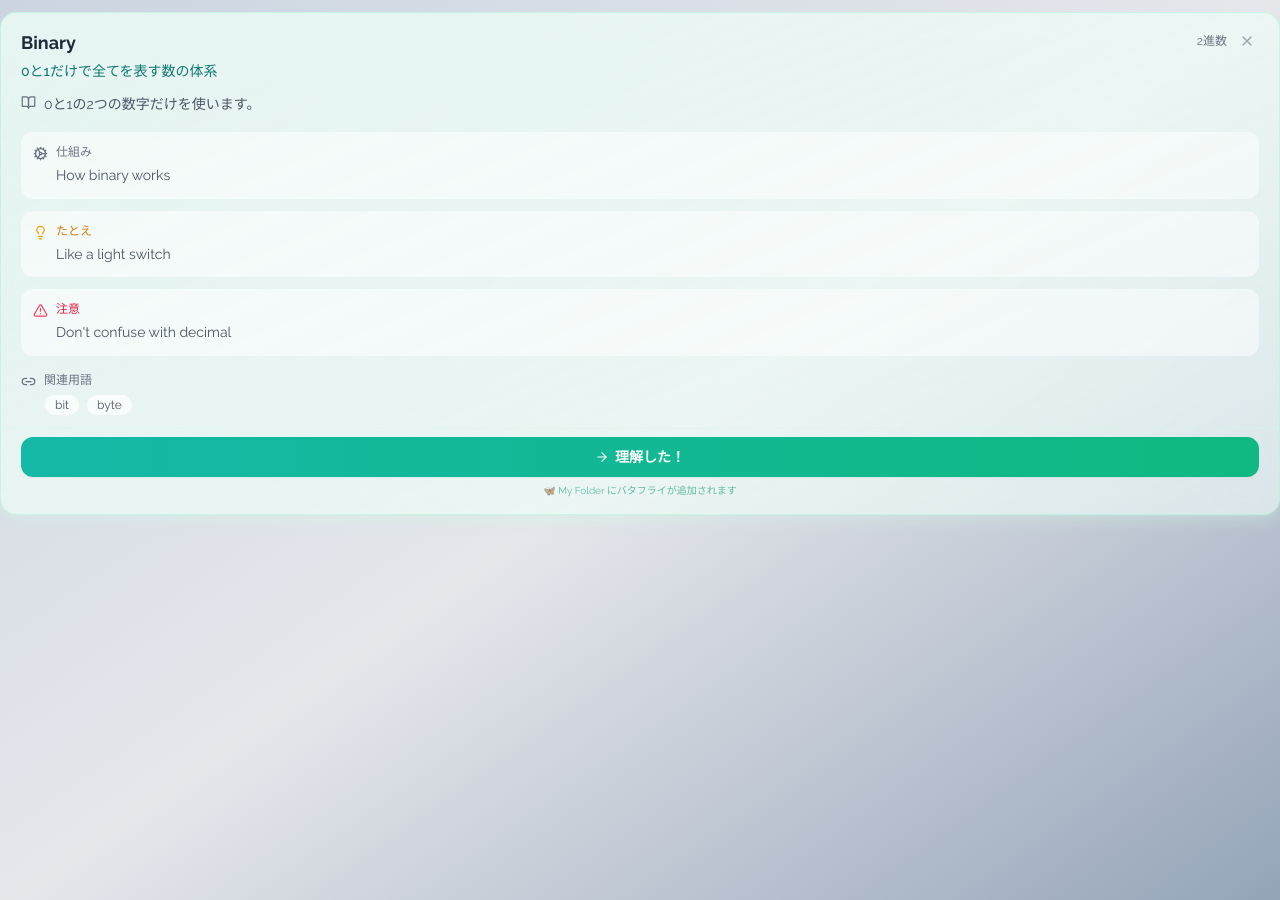
Test case: InlineTermCard › shows confirmation step before calling onGotIt
This screenshot has width=1280, height=900.
Later steps or results of the test are not shown.
// Click "理解した！"
Click the button "理解した！".
click(640, 457)  # box [21,437,1259,477]
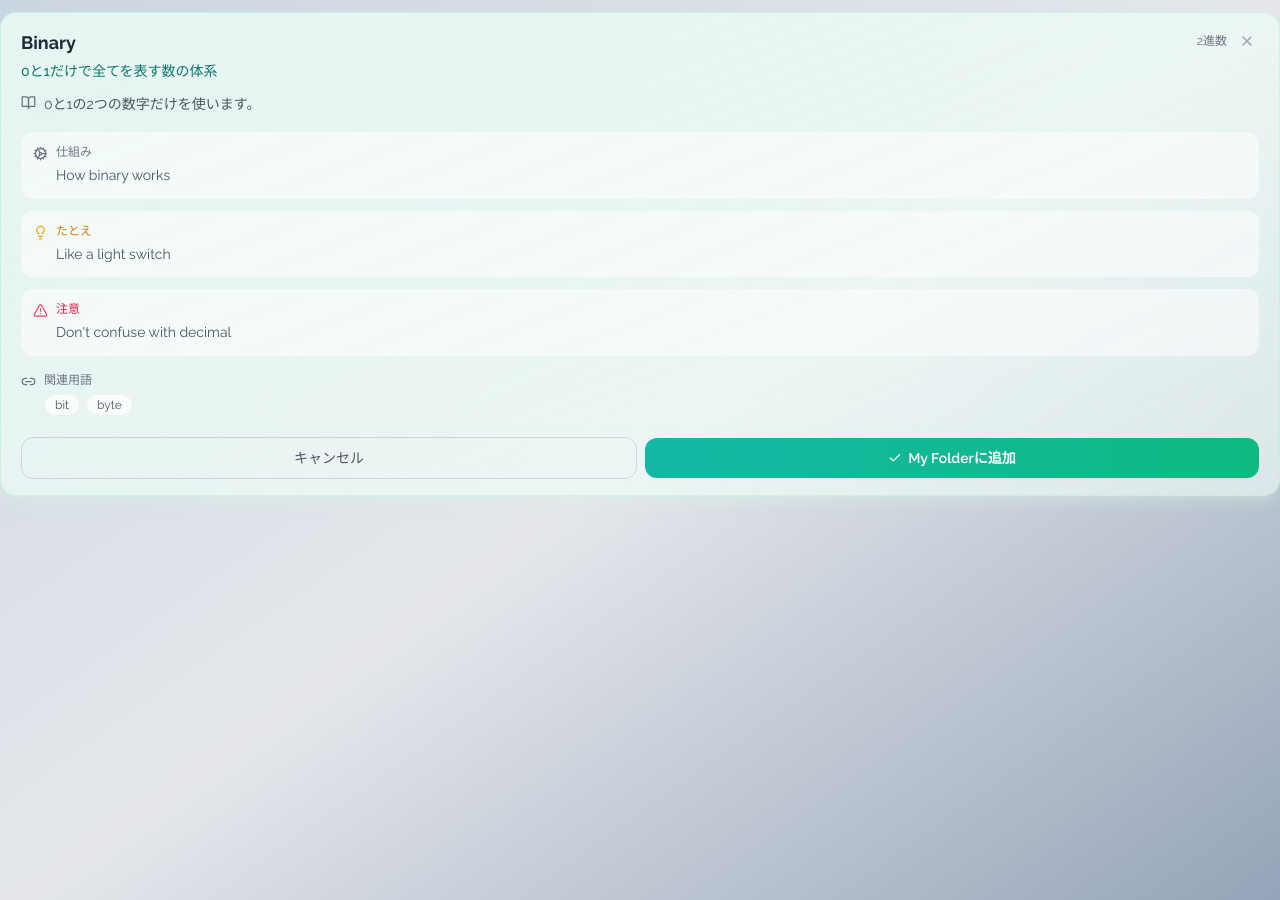
Expected: the button "キャンセル" is shown, [21,437,637,479]
Expected: the button "My Folderに追加" is shown, [645,438,1259,478]
